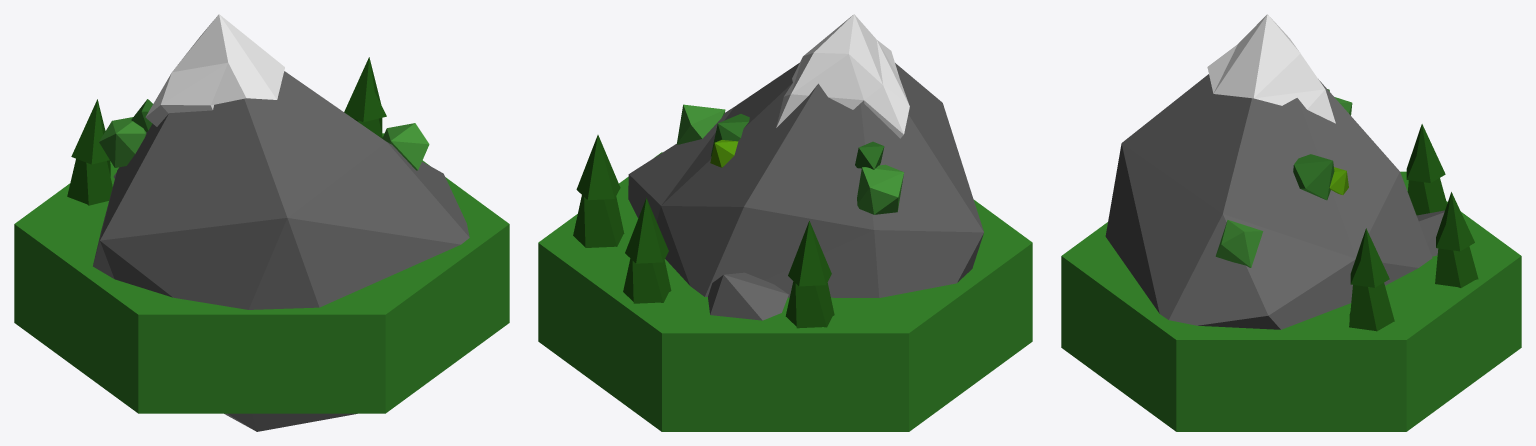
File: Mountain.fbx
3 renders of one model, left to right at view 1: azimuth 30°, elevation 25°; view 2: azimuth 150°, elevation 25°; view 3: azimuth 270°, elevation 25°, orthographic. The views are drawn at different scales.
Visible parts, largest first — view 1: Cylinder; view 2: Cylinder; view 3: Cylinder.
Part boxes in pixels (bbox=[...]): Cylinder: bbox=[14, 14, 509, 431]; Cylinder: bbox=[538, 14, 1032, 431]; Cylinder: bbox=[1061, 14, 1521, 431].
Size of the model in its own units: 1.73 by 1.8 by 2.
